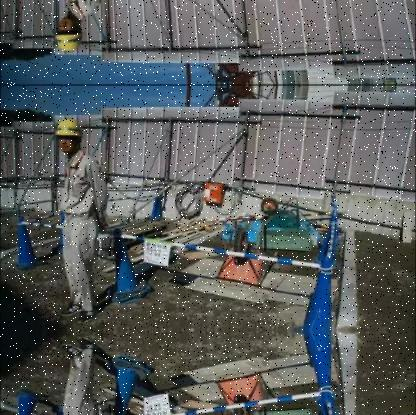helmet: (52, 113, 86, 155), (52, 13, 86, 55)
